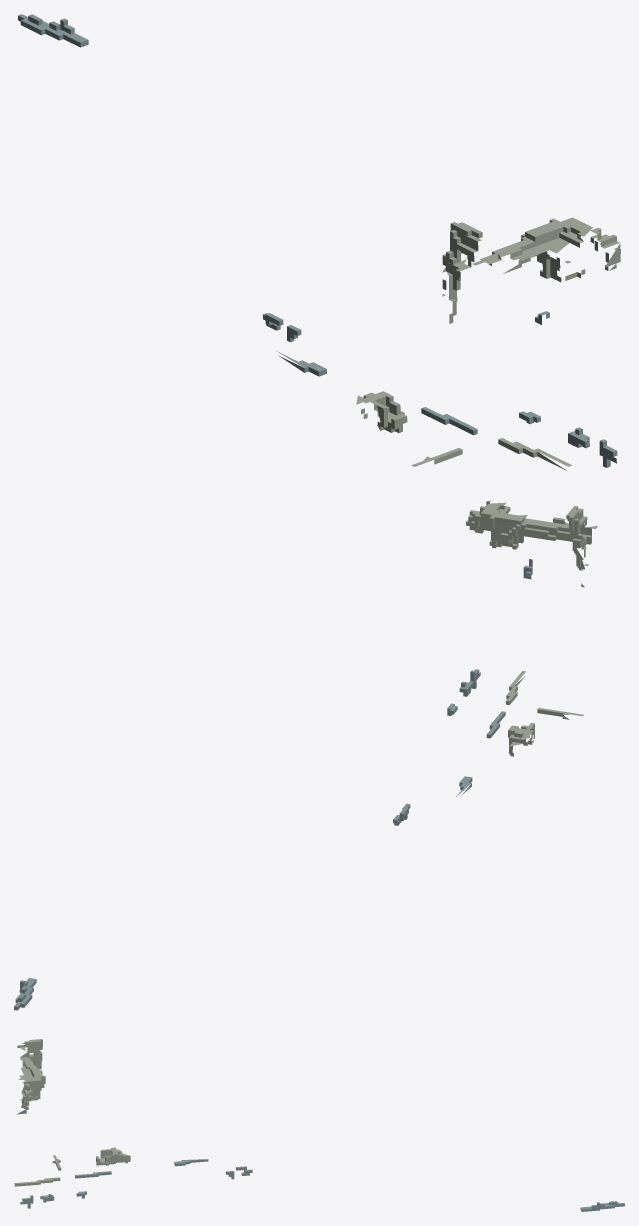
3 views of the same model, one above another, from view 1: azimuth 30°, elevation 25°; view 2: azimuth 150°, elevation 25°; view 3: azimuth 270°, elevation 25° (orthographic). The views are drawn at different scales.
Parts seen in each view (by area): view 1: measured-industrial; view 2: measured-industrial; view 3: measured-industrial.
Part boxes in pixels (<box>): measured-industrial: <box>18,14,620,470</box>; measured-industrial: <box>14,500,597,1010</box>; measured-industrial: <box>14,1039,624,1211</box>.
Size of the model in its own units: 47.94 by 55.88 by 230.
